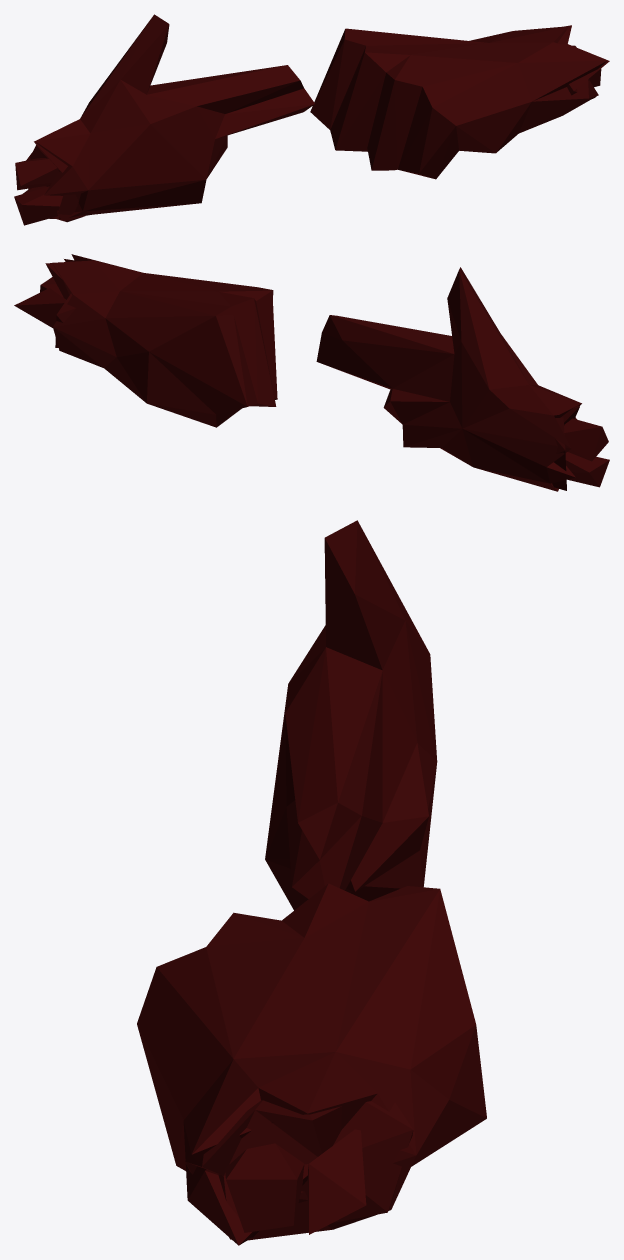
The model's file is Hands.fbx.
3 renders of one model, top to bottom at view 1: azimuth 30°, elevation 25°; view 2: azimuth 150°, elevation 25°; view 3: azimuth 270°, elevation 25°, orthographic. The views are drawn at different scales.
Visible parts, largest first — view 1: Object_2, Object_2.001; view 2: Object_2.001, Object_2; view 3: Object_2, Object_2.001.
Boxes of the visible parts, x1,y1,x2,y2 form: Object_2: [310, 25, 609, 179]; Object_2.001: [14, 14, 314, 225]; Object_2.001: [316, 267, 609, 491]; Object_2: [14, 254, 277, 427]; Object_2: [137, 883, 486, 1245]; Object_2.001: [265, 520, 437, 910].
Bounding box in the file's own units: 201 × 67.26 × 53.84.
